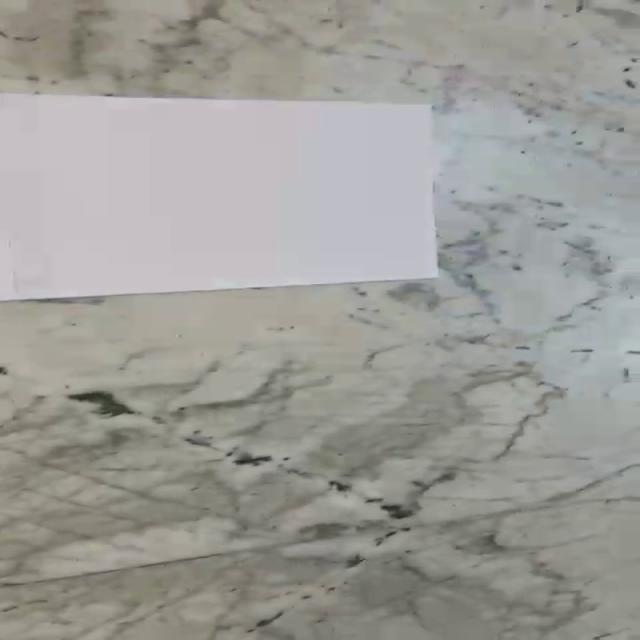road: (0, 93, 437, 303)
